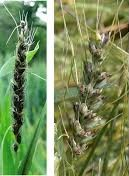Wheat Loose Smut: (9, 40, 33, 145)
